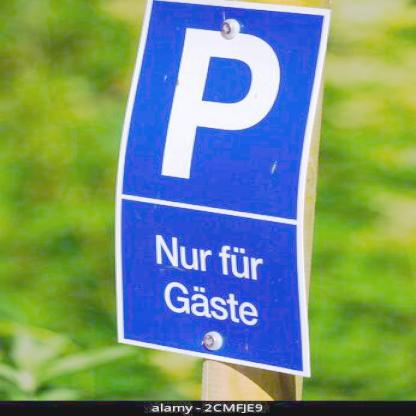Parking: (128, 0, 312, 213)
